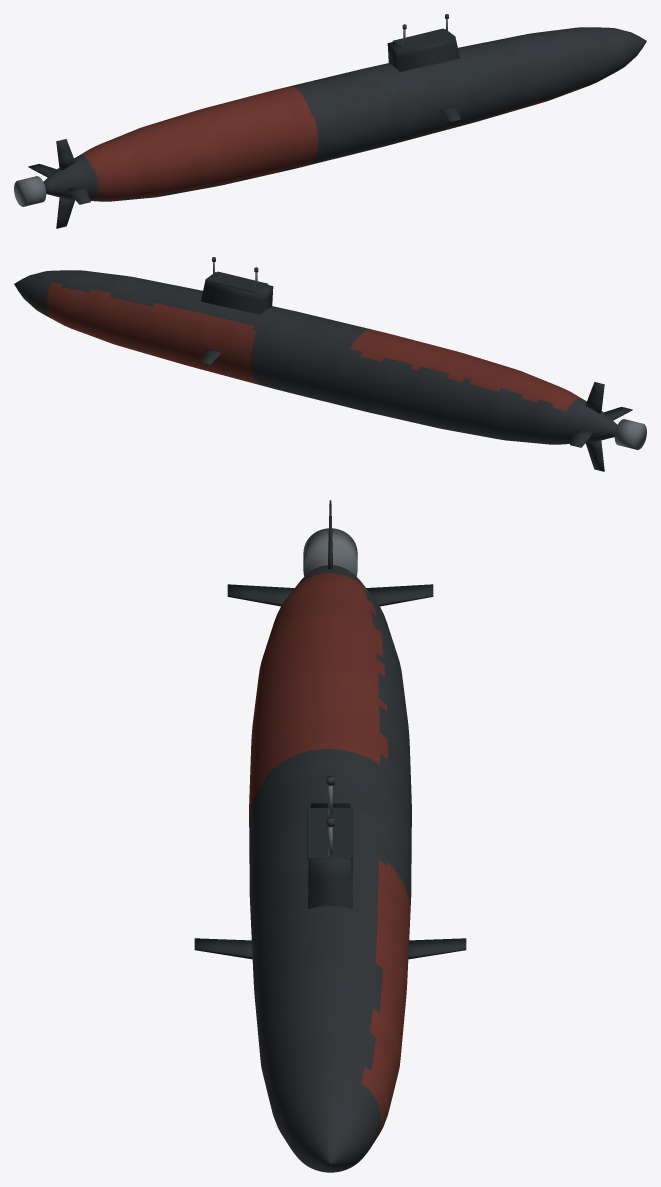
File: UK_SSN_Astute.glb
3 views of the same model, one above another, from view 1: azimuth 30°, elevation 25°; view 2: azimuth 150°, elevation 25°; view 3: azimuth 270°, elevation 25° (orthographic). The views are drawn at different scales.
Parts seen in each view (by area): view 1: UK_SSN_Astute_LOD0; view 2: UK_SSN_Astute_LOD0; view 3: UK_SSN_Astute_LOD0.
Part boxes in pixels (x1,y1,x2,y2): UK_SSN_Astute_LOD0: (14, 14, 646, 228); UK_SSN_Astute_LOD0: (14, 257, 646, 471); UK_SSN_Astute_LOD0: (194, 500, 466, 1172).
Size of the model in its own units: 100 by 18.12 by 18.82.
Materials: 6 (1 with a texture image).
